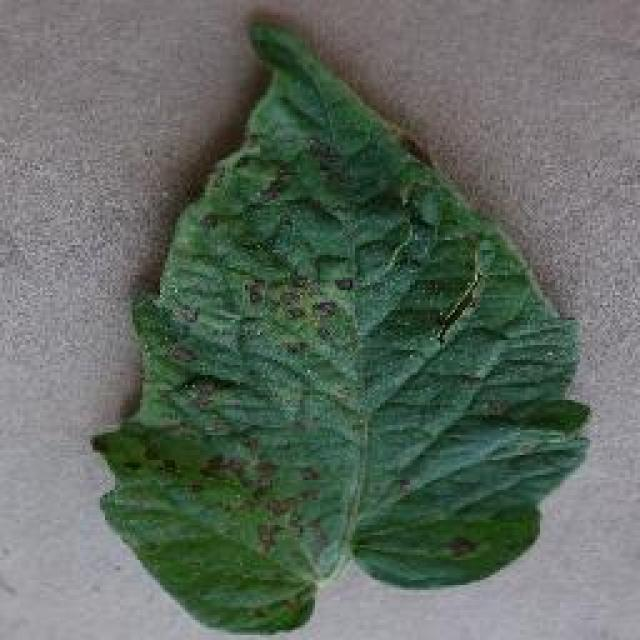leaf blight: (93, 24, 592, 630)
